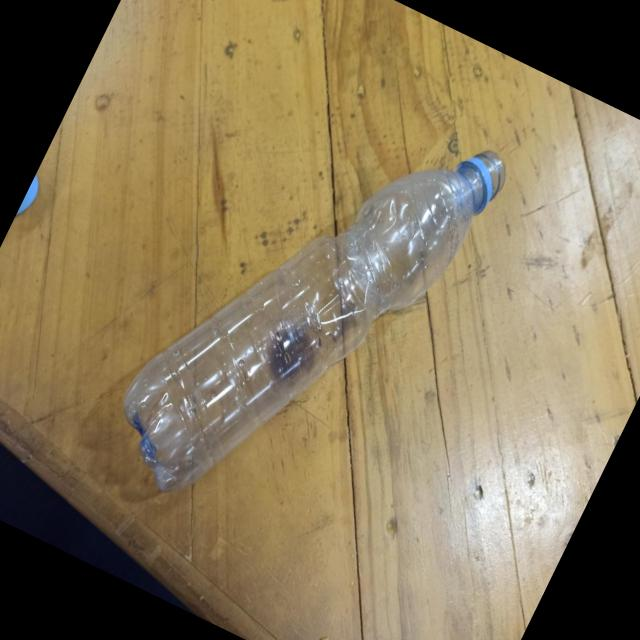BotolPlastik: (93, 51, 517, 568)
